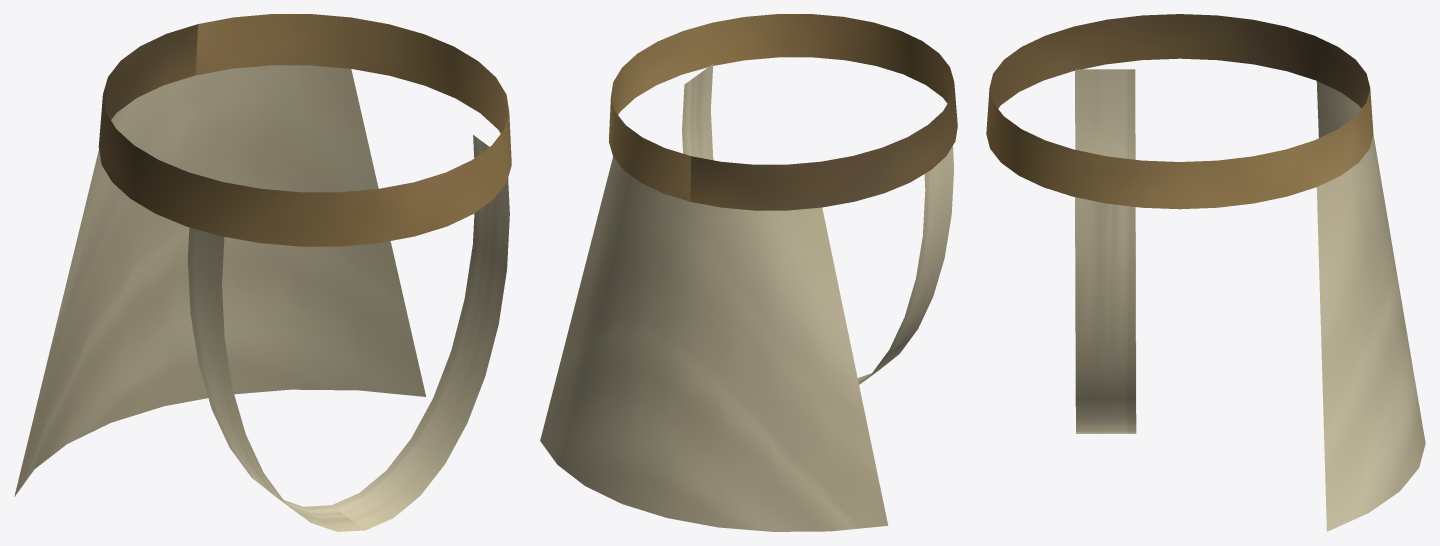
The model's file is helmet_moch_basic_inf_3.dae.
3 views of the same model, side by side, from view 1: azimuth 30°, elevation 25°; view 2: azimuth 150°, elevation 25°; view 3: azimuth 270°, elevation 25° (orthographic). The views are drawn at different scales.
Parts seen in each view (by area): view 1: helmet_moch_basic_inf_3; view 2: helmet_moch_basic_inf_3; view 3: helmet_moch_basic_inf_3.
Boxes of the visible parts, left/top/right/bottom form: helmet_moch_basic_inf_3: left=14, top=14, right=511, bottom=531; helmet_moch_basic_inf_3: left=540, top=14, right=957, bottom=531; helmet_moch_basic_inf_3: left=986, top=14, right=1425, bottom=531.
Size of the model in its own units: 0.5758 by 0.6034 by 0.5402.
